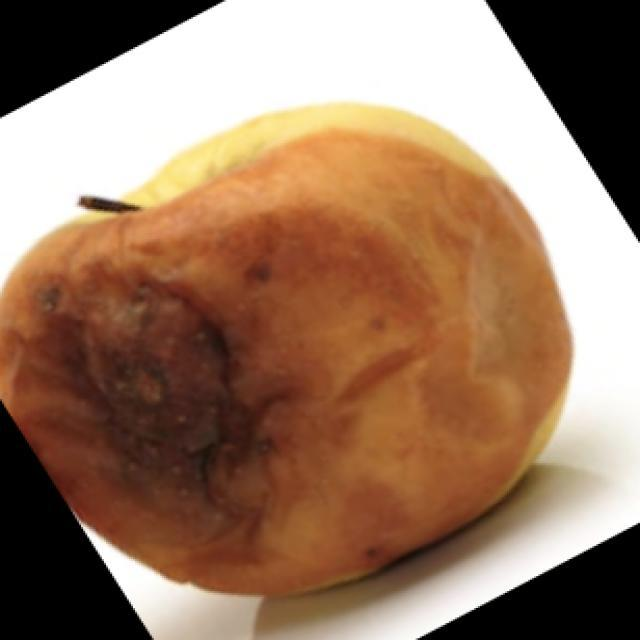Rotten: (13, 96, 565, 612)
